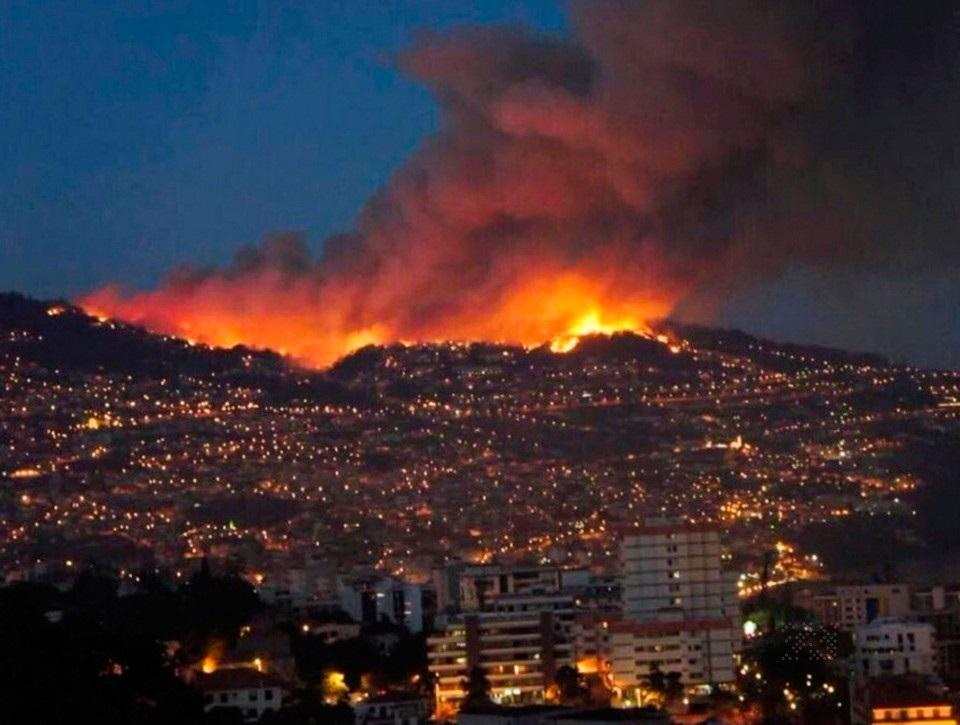Fire: (542, 299, 674, 359), (188, 329, 382, 369)
